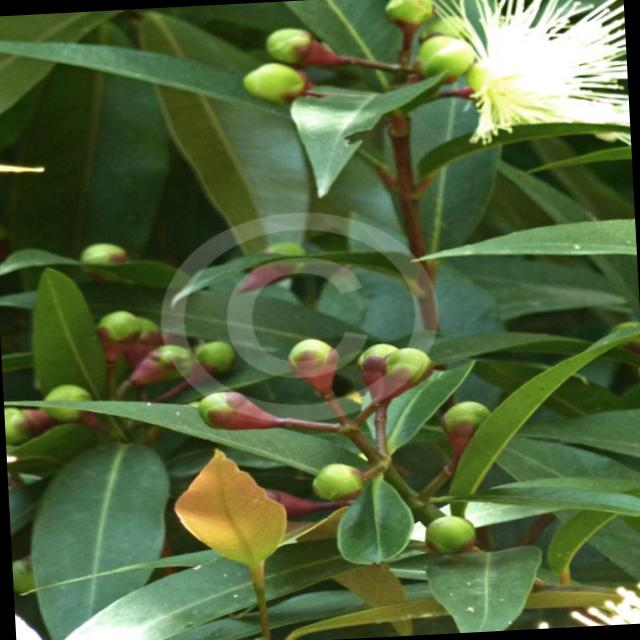Medicinal-Rose Apple: (1, 190, 640, 640), (227, 0, 640, 628)
